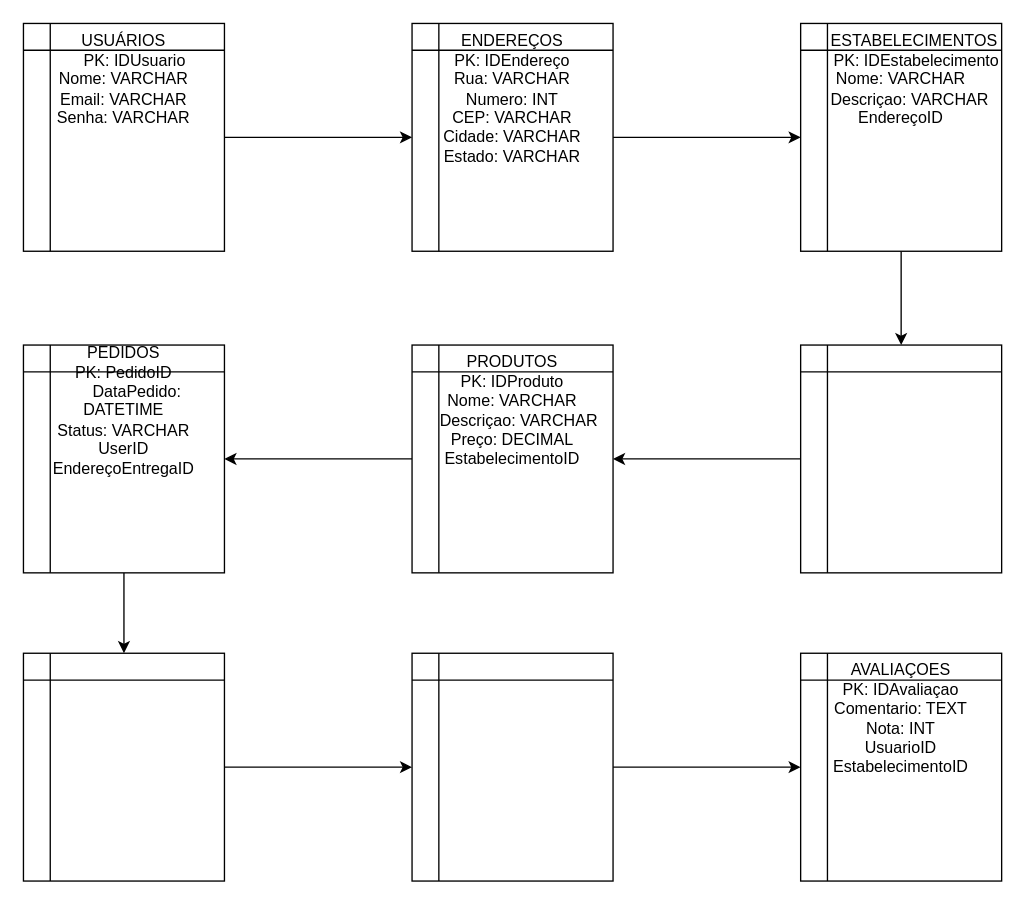
Image size: 1025x905. Some labels were removed from this diagram. The shapes that lost their labels are listed below. From the top down, each one's centre as x and y in pixels, then its label:
the point at 900,458: CATEGORIAS PK: CategoriaID Nome: VARCHAR Descriçao: TEXT
the point at 123,766: ItensPedido PK: IDItemPedido PedidoID ProdutoID Quantidade: INT
the point at 512,766: PAGAMENTOS PK: PagamentoID PedidoID Tipo: VARCHAR ValorTotal: DECIMAL
